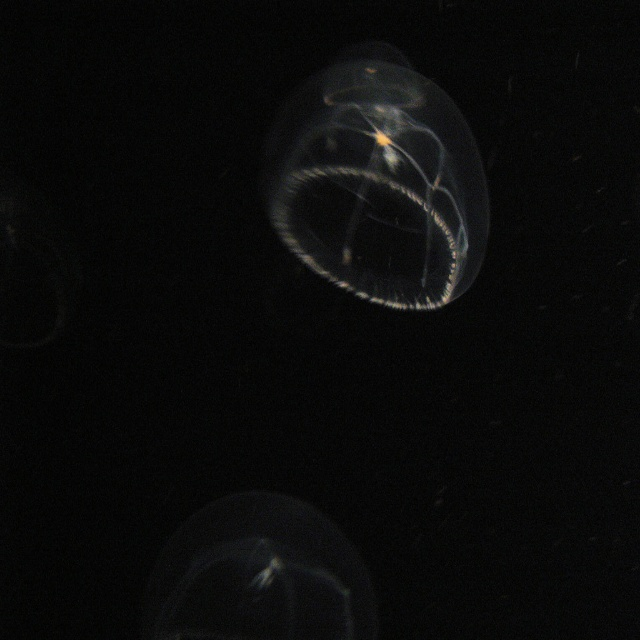Jellyfish: (257, 29, 491, 315)
